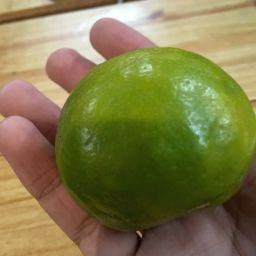Unripe: (55, 51, 253, 229)
